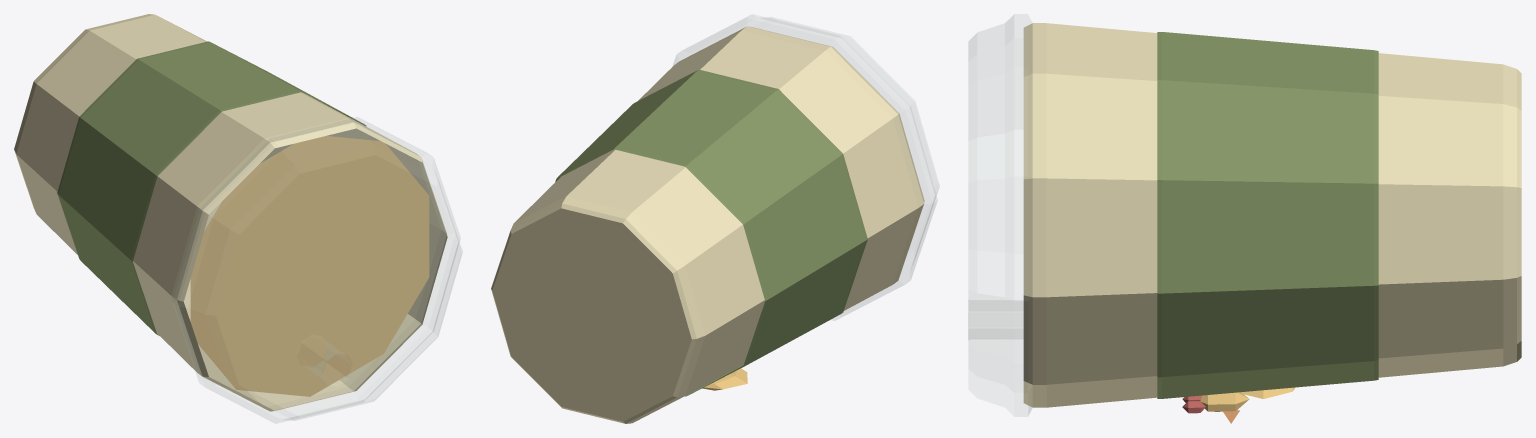
The model's file is chicken_soup.glb.
The picture shows the model from 3 angles, left to right: view 1: azimuth 30°, elevation 25°; view 2: azimuth 150°, elevation 25°; view 3: azimuth 270°, elevation 25°; orthographic projection. The views are drawn at different scales.
Parts seen in each view (by area): view 1: chicken_soup; view 2: chicken_soup; view 3: chicken_soup.
Part boxes in pixels (box(x1,y1,x2,y2)): chicken_soup: box(14, 14, 462, 423); chicken_soup: box(491, 14, 939, 423); chicken_soup: box(968, 14, 1521, 423).
Size of the model in its own units: 0.088 by 0.0837 by 0.12.
